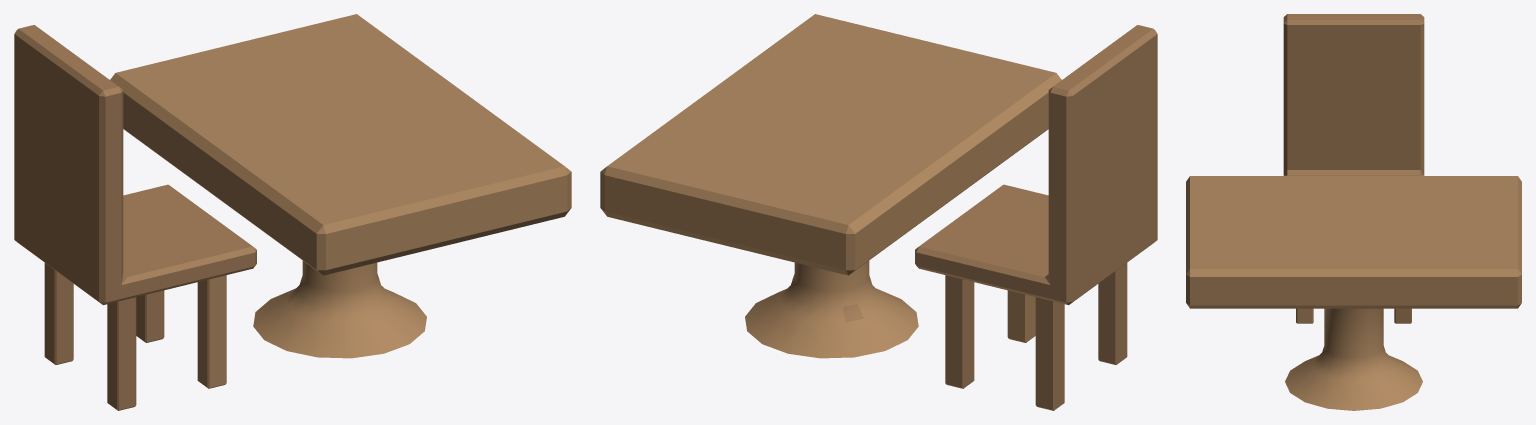
File: JudgesDesk.fbx
3 views of the same model, side by side, from view 1: azimuth 30°, elevation 25°; view 2: azimuth 150°, elevation 25°; view 3: azimuth 270°, elevation 25° (orthographic). The views are drawn at different scales.
Visible parts, largest first — view 1: Desk.001; view 2: Desk.001; view 3: Desk.001.
Boxes of the visible parts, x1,y1,x2,y2 form: Desk.001: (14,14,571,410); Desk.001: (600,14,1157,410); Desk.001: (1186,14,1521,410).
Bounding box in the file's own units: 4.25 × 3.27 × 3.82.
